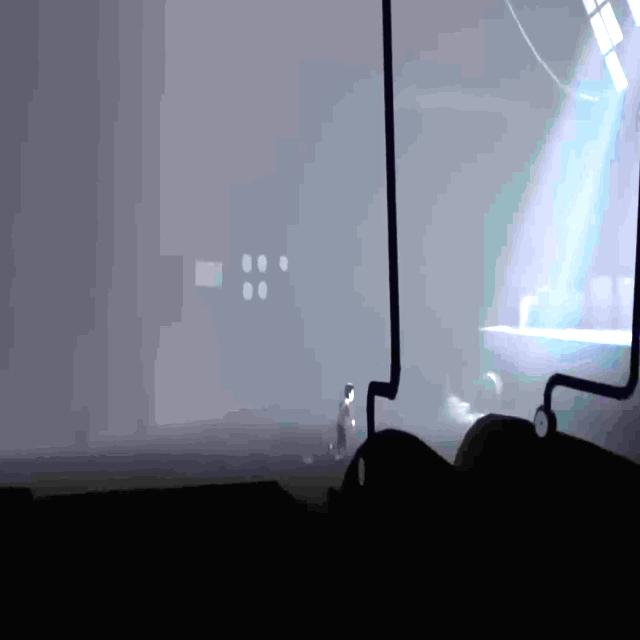boy: (329, 382, 355, 461)
